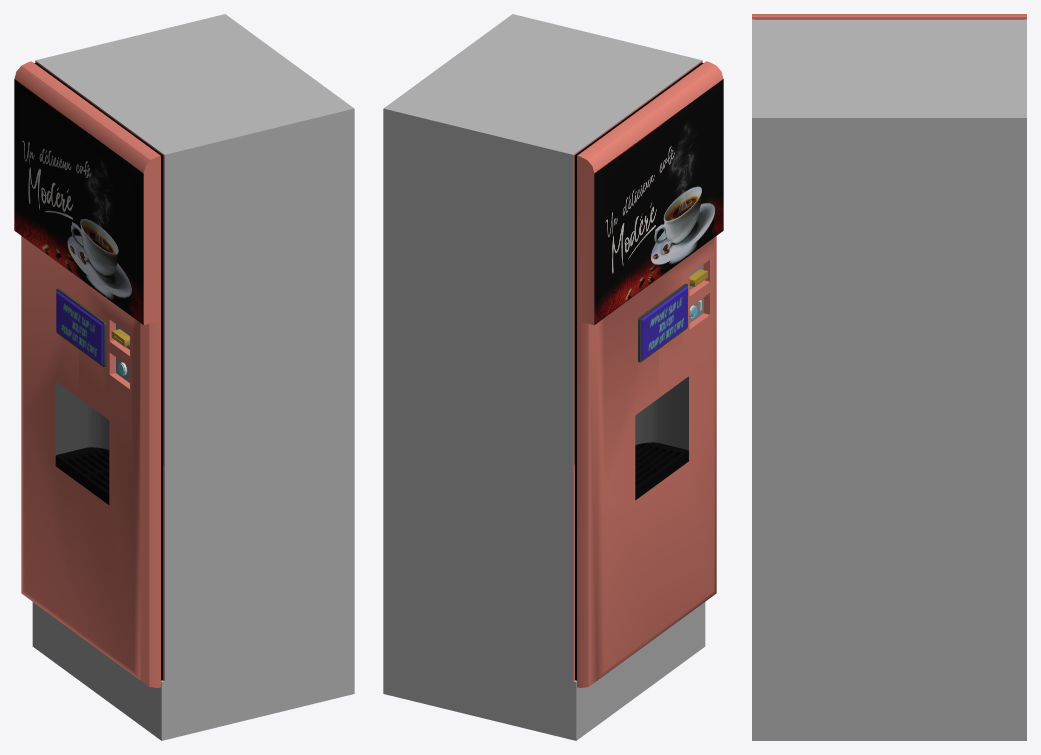
Rendered from machine - Copie (2).glb.
3 views of the same model, side by side, from view 1: azimuth 30°, elevation 25°; view 2: azimuth 150°, elevation 25°; view 3: azimuth 270°, elevation 25° (orthographic). The views are drawn at different scales.
Visible parts, largest first — view 1: Machine, Screen, Plaque; view 2: Machine, Screen, Plaque; view 3: Machine.
Part boxes in pixels (x1,y1,x2,y2): Machine: (14, 14, 354, 740); Screen: (56, 288, 106, 366); Plaque: (55, 447, 109, 504); Machine: (383, 14, 723, 740); Screen: (638, 283, 687, 362); Plaque: (635, 442, 688, 500); Machine: (752, 14, 1026, 740).
Size of the model in its own units: 1.49 by 3.89 by 1.56.
11 materials, 2 textured.
